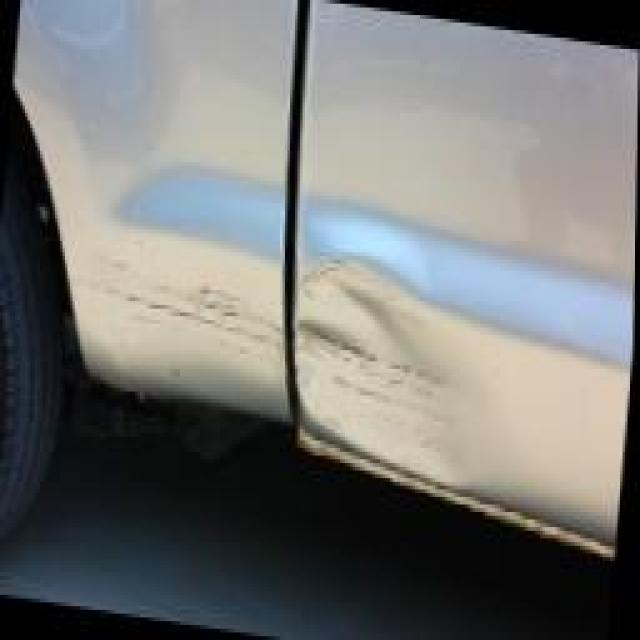Door: (292, 237, 582, 504)
Fender: (60, 196, 296, 407)
